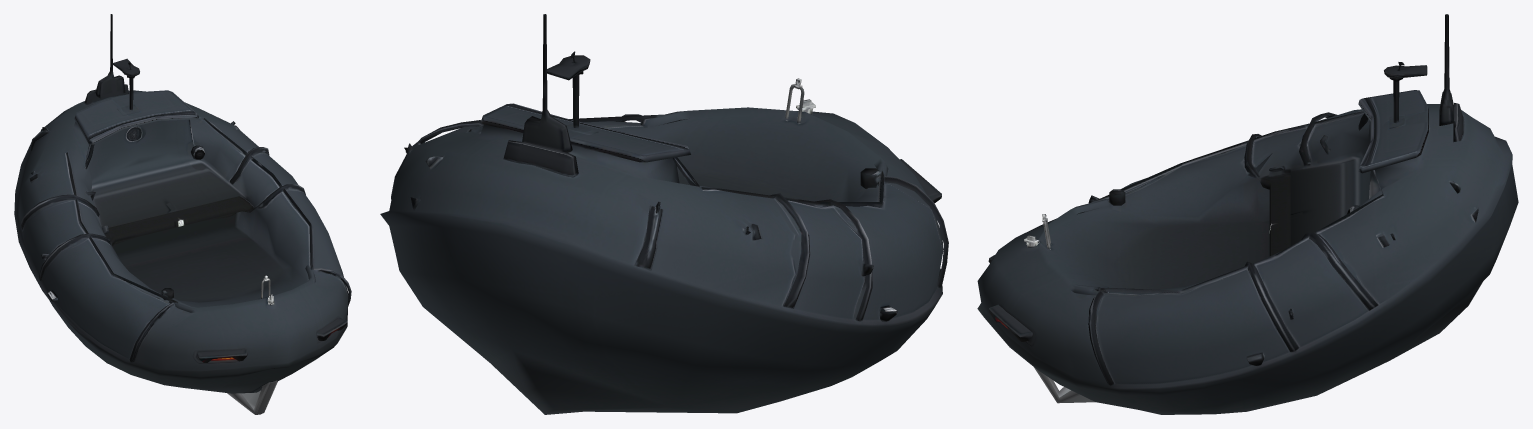
The picture shows the model from 3 angles, left to right: view 1: azimuth 30°, elevation 25°; view 2: azimuth 150°, elevation 25°; view 3: azimuth 270°, elevation 25°; orthographic projection. The views are drawn at different scales.
Visible parts, largest first — view 1: tripo_node_c066843a-22b7-463f-8a61-6a5751d0eaa8; view 2: tripo_node_c066843a-22b7-463f-8a61-6a5751d0eaa8; view 3: tripo_node_c066843a-22b7-463f-8a61-6a5751d0eaa8.
Boxes of the visible parts, x1,y1,x2,y2 form: tripo_node_c066843a-22b7-463f-8a61-6a5751d0eaa8: (14, 14, 351, 414); tripo_node_c066843a-22b7-463f-8a61-6a5751d0eaa8: (380, 14, 948, 414); tripo_node_c066843a-22b7-463f-8a61-6a5751d0eaa8: (977, 14, 1518, 414).
Size of the model in its own units: 0.7534 by 0.7896 by 0.9995.
1 material, 1 textured.
